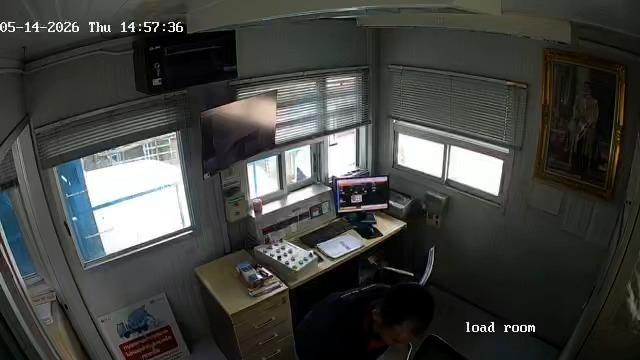Head: (373, 282, 431, 340)
People: (309, 277, 430, 360)
